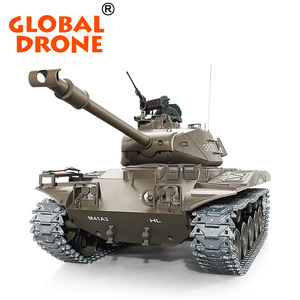Battle Tank: (28, 68, 272, 277)
